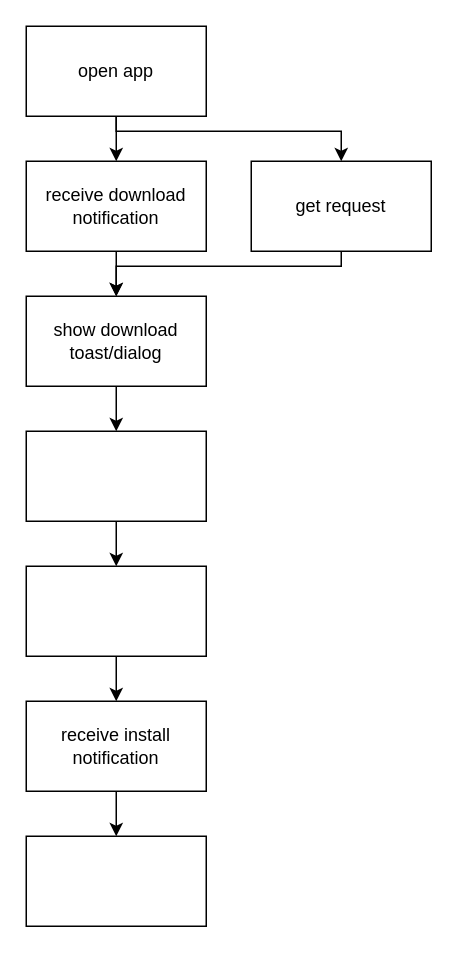
Some shapes in this 458 by 953 pixel diagram are drawn without their labels. Each missing label, with the centre of its shape:
"download app via donwload manager" belongs at (x=115, y=610).
"install app" belongs at (x=115, y=880).
"open webview" belongs at (x=115, y=475).
